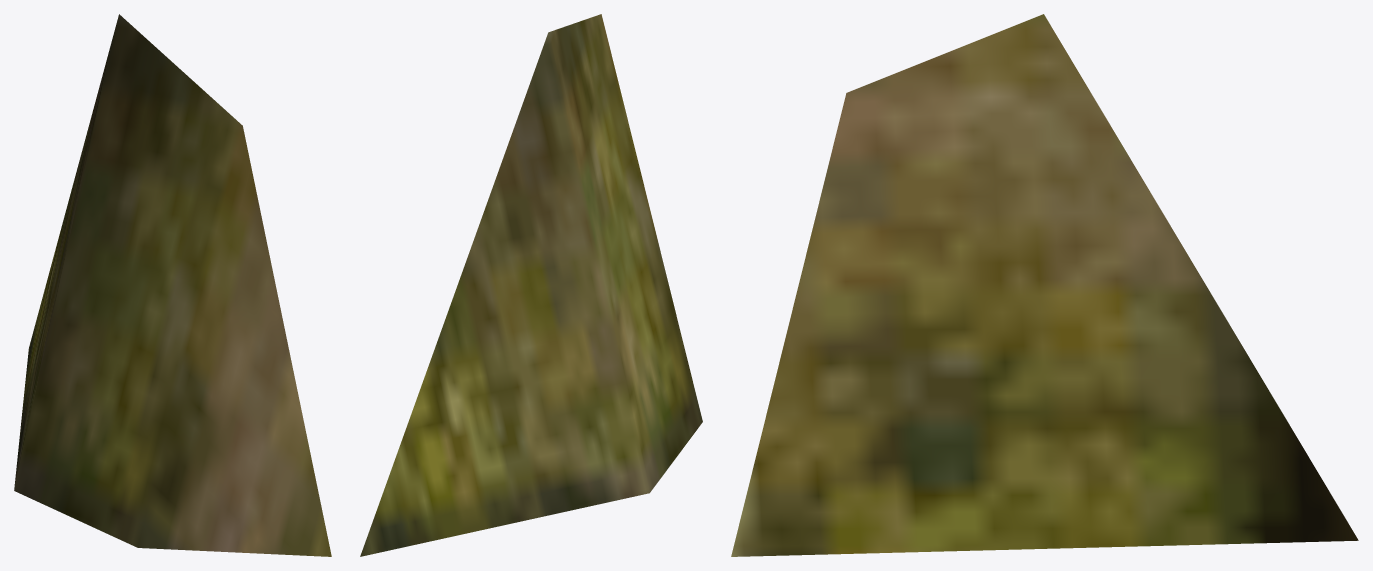
File: OVERHILL_A_01_OBJECT201.fbx
The picture shows the model from 3 angles, left to right: view 1: azimuth 30°, elevation 25°; view 2: azimuth 150°, elevation 25°; view 3: azimuth 270°, elevation 25°; orthographic projection. The views are drawn at different scales.
Parts seen in each view (by area): view 1: OVERHILL_A_01_OBJECT201; view 2: OVERHILL_A_01_OBJECT201; view 3: OVERHILL_A_01_OBJECT201.
Boxes of the visible parts, x1,y1,x2,y2 form: OVERHILL_A_01_OBJECT201: [14, 14, 331, 556]; OVERHILL_A_01_OBJECT201: [360, 14, 702, 556]; OVERHILL_A_01_OBJECT201: [731, 14, 1358, 556].
Size of the model in its own units: 3018 by 7477 by 8430.
Materials: 1 (1 with a texture image).
